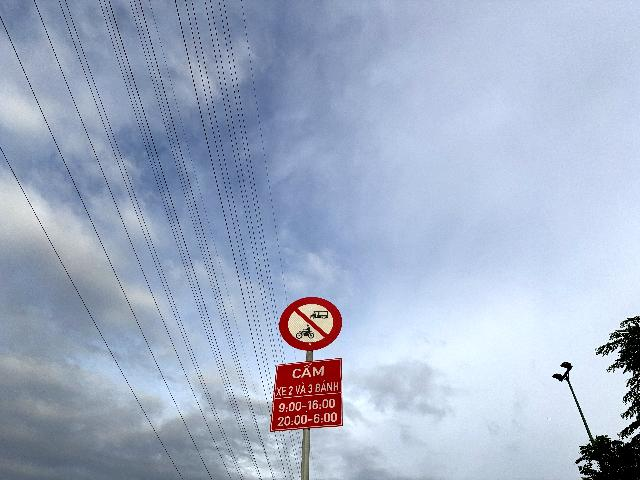cam-xe-2-banh-3-banh: (278, 296, 342, 351)
